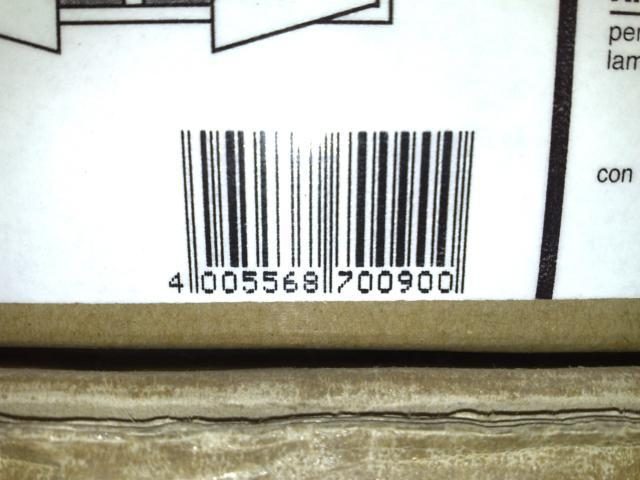Barkod: (175, 128, 477, 268)
